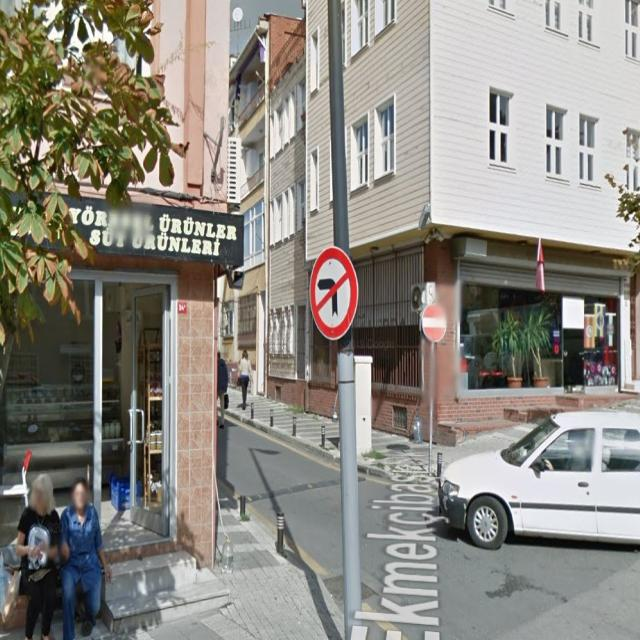girisyok: (421, 304, 447, 342)
soladonulmez: (310, 246, 359, 340)
